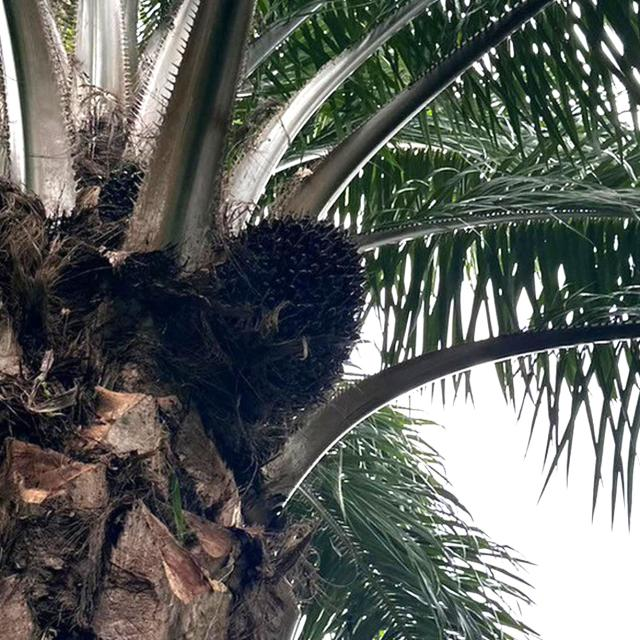ripe: (188, 212, 366, 425), (94, 157, 143, 230)
